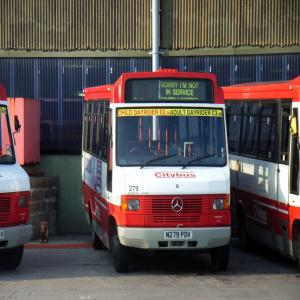Vehicle-registration-plate: (165, 231, 194, 241), (1, 230, 5, 240)
